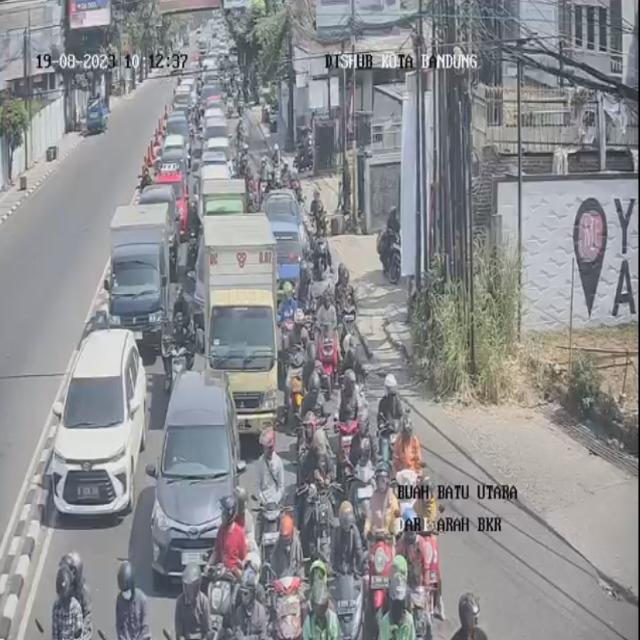cars: (50, 328, 148, 522), (150, 373, 240, 578), (112, 203, 176, 343), (192, 168, 242, 239), (141, 185, 183, 255), (263, 190, 305, 256), (154, 165, 191, 229), (159, 136, 191, 196), (198, 140, 230, 175), (204, 114, 231, 154), (166, 112, 194, 148), (199, 75, 221, 116), (204, 88, 226, 120), (174, 86, 195, 119)
motorcycle: (206, 496, 258, 639), (263, 504, 306, 640), (297, 412, 335, 540), (253, 430, 291, 554), (331, 506, 365, 640), (394, 504, 425, 618), (55, 548, 93, 638), (168, 570, 212, 640), (116, 560, 154, 640), (349, 435, 381, 528), (167, 292, 196, 392), (333, 266, 361, 368), (414, 477, 441, 577), (314, 286, 338, 398), (368, 470, 390, 586), (377, 379, 401, 483), (287, 308, 310, 416), (384, 563, 416, 640), (453, 593, 494, 640), (394, 410, 420, 483), (340, 366, 366, 438), (306, 565, 330, 640), (308, 186, 328, 255), (268, 134, 287, 184), (68, 620, 112, 640), (256, 156, 270, 200), (240, 153, 254, 192)
truck: (200, 195, 284, 436)
